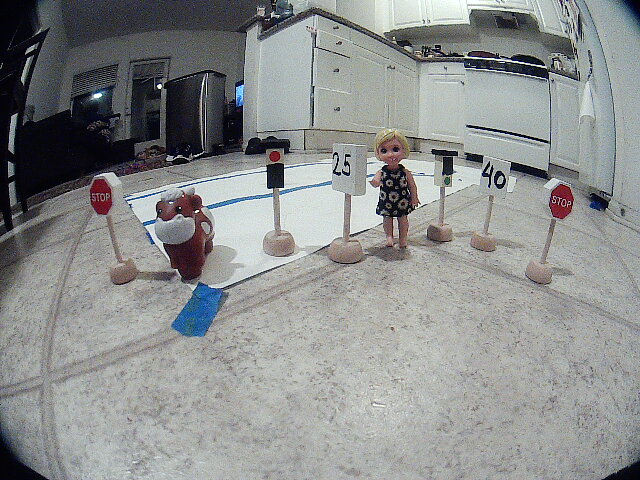Cow: (150, 184, 223, 281)
Green Traffic Light: (429, 144, 464, 190)
Person: (371, 132, 421, 259)
Red Traffic Light: (256, 141, 299, 194)
Speed Limit 25: (329, 143, 367, 200)
Speed Limit 40: (479, 151, 518, 198)
Stop Sign: (72, 168, 137, 222), (540, 179, 584, 226)
